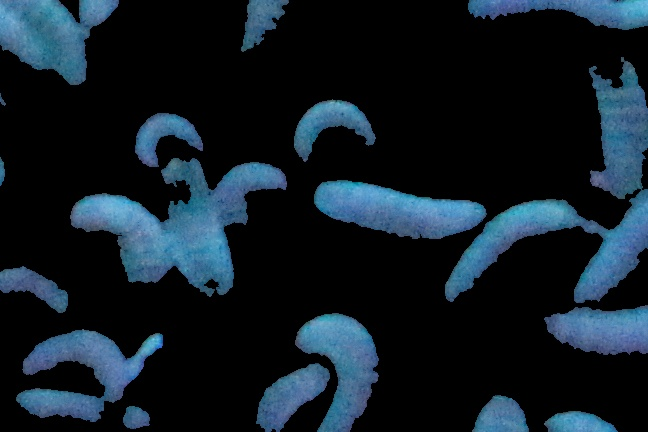larvae: (448, 202, 577, 310), (300, 307, 381, 431), (75, 197, 177, 293), (314, 180, 475, 238), (162, 164, 234, 293), (583, 62, 648, 195), (579, 188, 648, 302), (24, 324, 128, 396), (460, 1, 648, 32), (257, 362, 333, 432), (546, 308, 648, 358), (299, 102, 375, 163), (224, 161, 287, 234), (238, 1, 319, 56), (1, 263, 72, 310), (13, 386, 107, 421), (134, 113, 205, 157)
